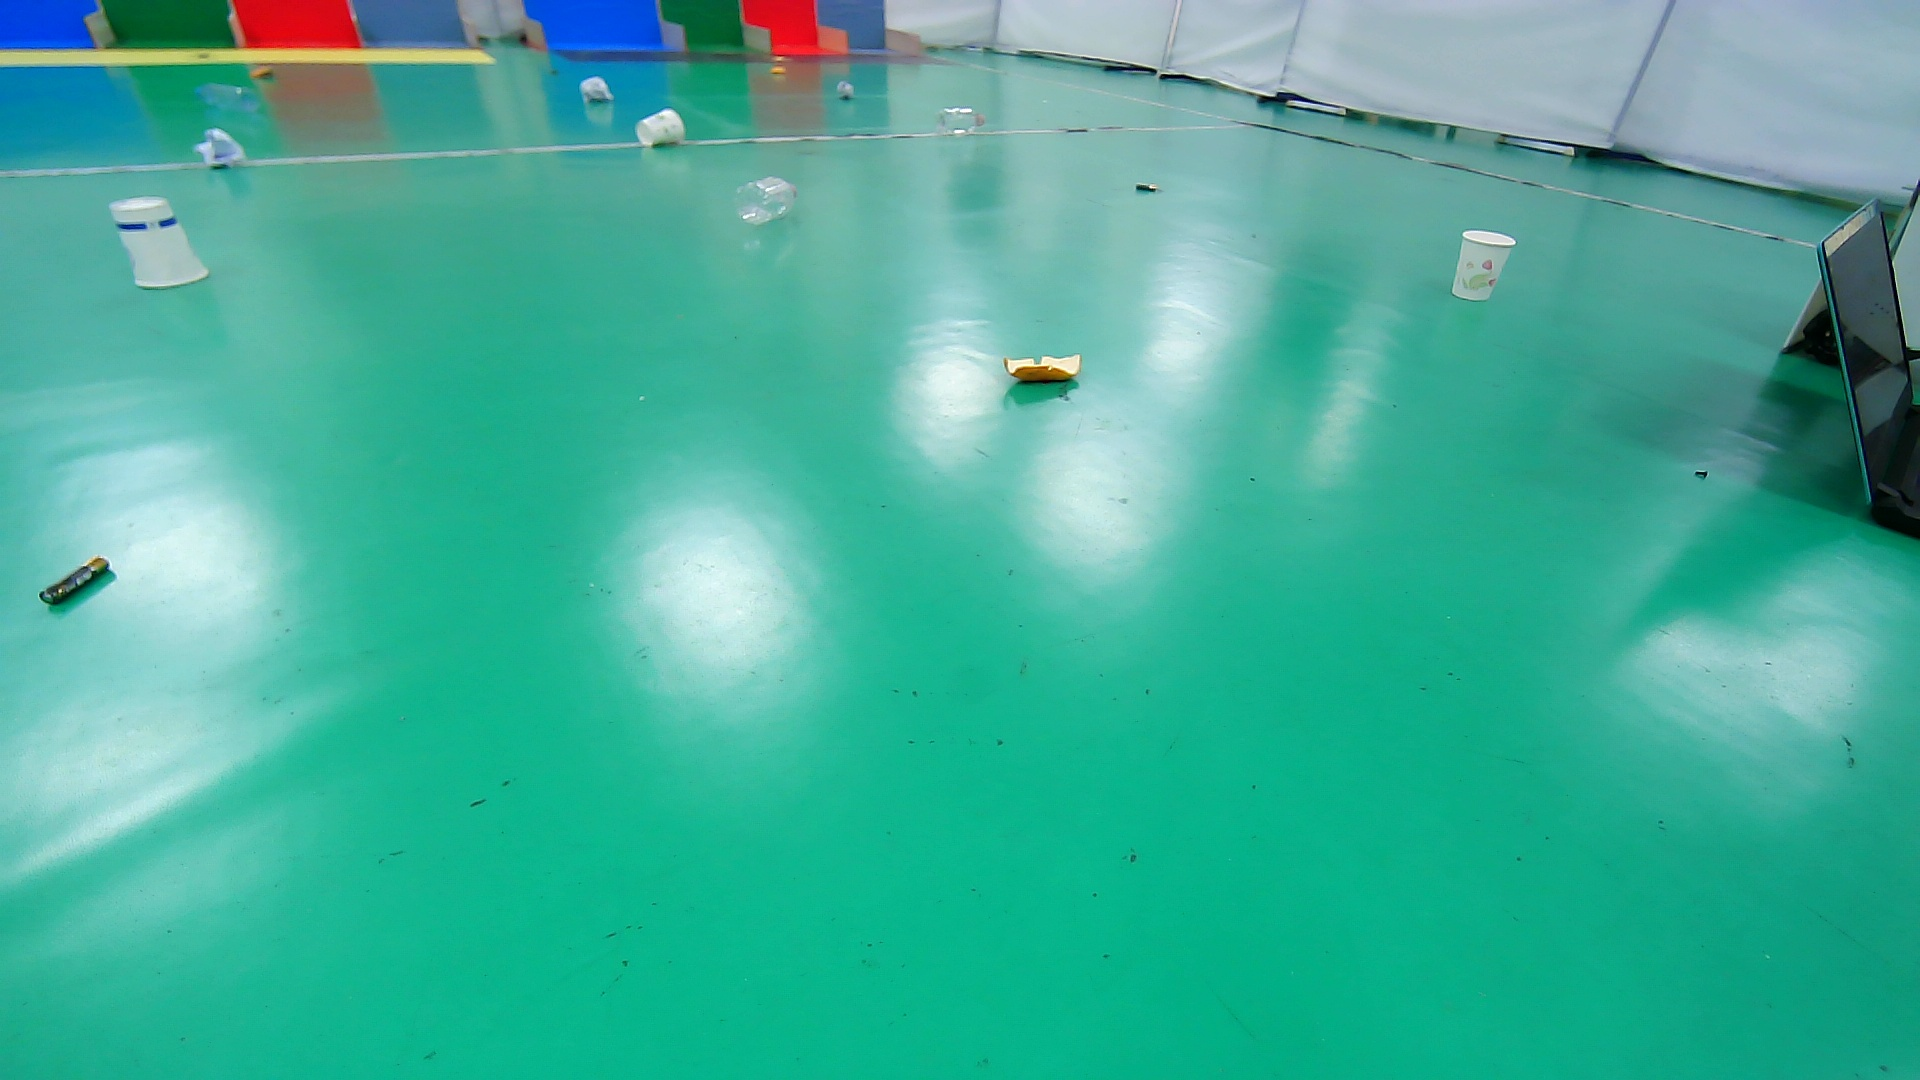battery: (15, 543, 135, 625), (1122, 173, 1168, 203), (543, 63, 567, 80)
bottle: (728, 171, 804, 229), (191, 80, 262, 116), (930, 102, 992, 140)
orangepeel: (994, 338, 1095, 400), (241, 61, 284, 82), (764, 62, 794, 78)
papercup: (109, 193, 216, 291), (1447, 228, 1520, 305), (633, 105, 688, 152)
spitball: (193, 124, 249, 175), (575, 74, 617, 108), (833, 76, 858, 102)
